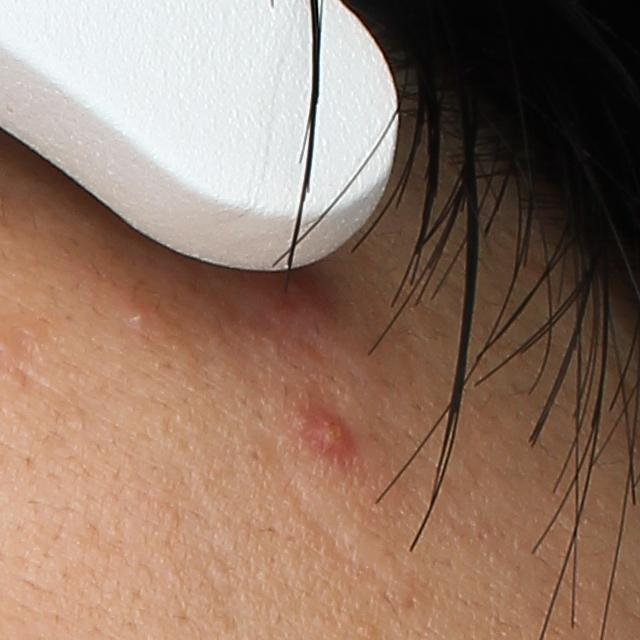comedo: (245, 447, 266, 466)
papule: (298, 403, 363, 466)
